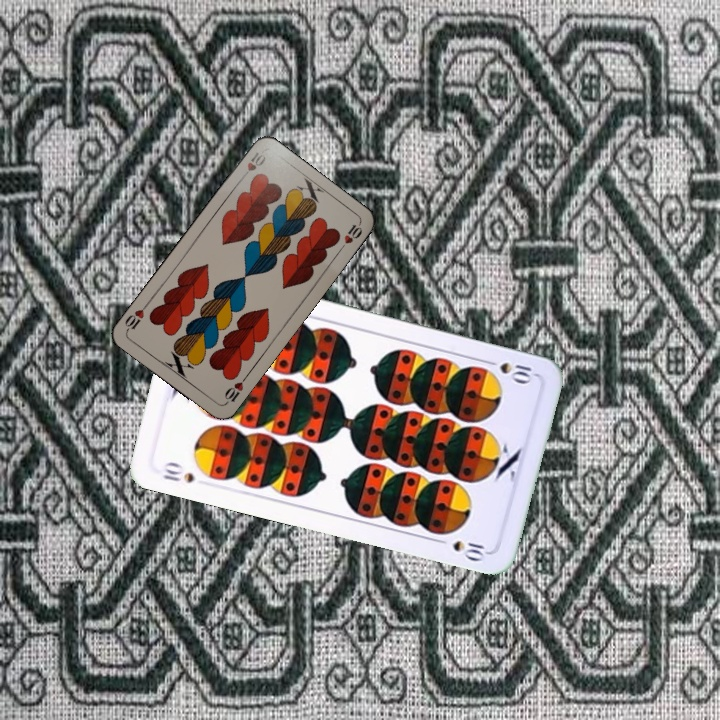H10: (237, 148, 269, 183), (220, 372, 250, 407)
S10: (480, 355, 534, 385), (158, 458, 197, 486)
